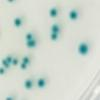Blue_green: (66, 9, 80, 23), (76, 42, 89, 56), (11, 16, 23, 28), (21, 39, 36, 48), (48, 6, 59, 18), (37, 77, 47, 89), (23, 80, 32, 90), (50, 24, 61, 32), (49, 32, 59, 40), (12, 57, 19, 67), (24, 32, 32, 40), (22, 55, 30, 63), (20, 63, 28, 70), (0, 67, 6, 76), (5, 94, 13, 100), (6, 56, 12, 64), (2, 58, 7, 64), (4, 64, 10, 68)
